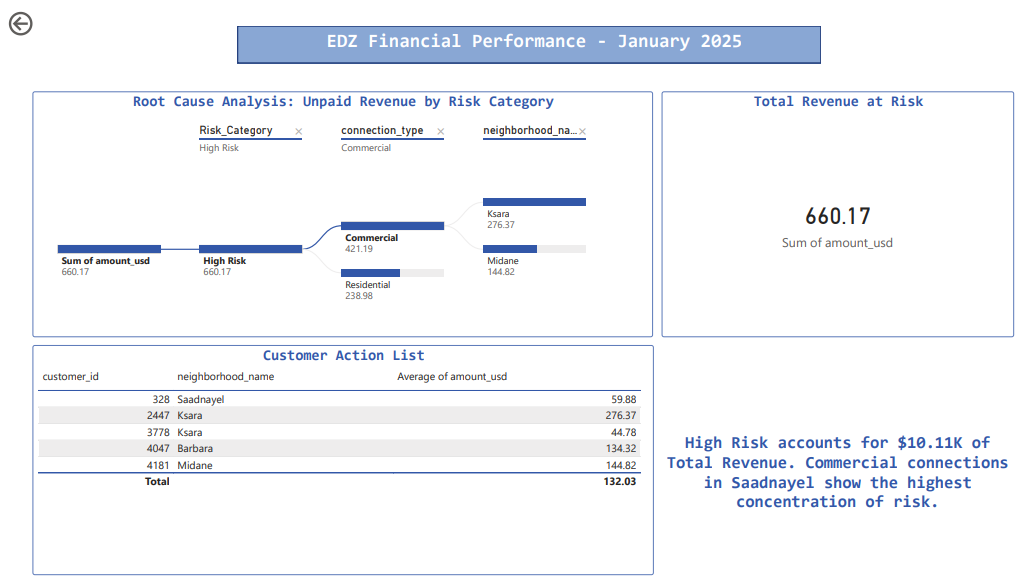

This screenshot's page, from the dashboard's own definition file:
{"tool":"powerbi","page":{"name":"AI Risk","canvas":[1280,720],"ordinal":2},"visuals":[{"type":"decompositionTreeVisual","title":"Root Cause Analysis: Unpaid Revenue by Risk Category","fields":{"Analyze":["Sum(edz_operations_db view_customer_analytics.amount_usd)"],"ExplainBy":["edz_operations_db view_customer_analytics.Risk_Category","edz_operations_db view_customer_analytics.connection_type","edz_operations_db view_customer_analytics.neighborhood_name"]},"box":[34.9,106.3,787.5,311.5],"z":0},{"type":"shape","box":[295,23.3,740,46.7],"z":1},{"type":"textbox","box":[391.7,23.3,560,45],"z":2},{"type":"card","title":"Total Revenue at Risk","fields":{"Values":["Sum(edz_operations_db view_customer_analytics.amount_usd)"]},"box":[832.7,106.3,446.9,311.5],"z":3},{"type":"actionButton","box":[0,0,100,40],"z":4},{"type":"tableEx","title":"Customer Action List","fields":{"Values":["edz_operations_db view_customer_analytics.customer_id","edz_operations_db view_customer_analytics.neighborhood_name","Avg(edz_operations_db view_customer_analytics.amount_usd)"]},"box":[35,428,788,292],"z":5},{"type":"textbox","box":[832.7,534.2,446.9,135.4],"z":6}]}

Visuals, with their boxes in screenshot pixels (x1, y1, x2, y2), scaled from the page's 1280x720 canvas onto the 1024x588 screenshot:
"Root Cause Analysis: Unpaid Revenue by Risk Category" decompositionTreeVisual: box=[28, 87, 658, 341]
shape: box=[236, 19, 828, 57]
textbox: box=[313, 19, 761, 56]
"Total Revenue at Risk" card: box=[666, 87, 1023, 341]
actionButton: box=[0, 0, 80, 33]
"Customer Action List" tableEx: box=[28, 350, 658, 587]
textbox: box=[666, 436, 1023, 547]
